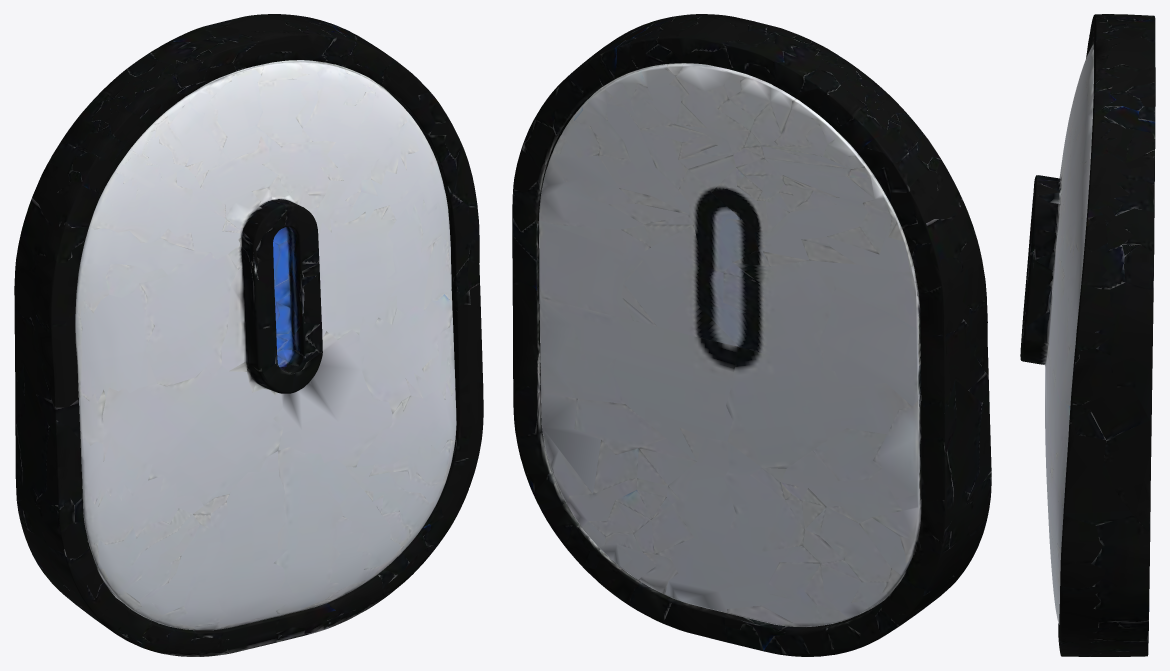
File: mouse.glb
3 renders of one model, left to right at view 1: azimuth 30°, elevation 25°; view 2: azimuth 150°, elevation 25°; view 3: azimuth 270°, elevation 25°, orthographic. The views are drawn at different scales.
Size of the model in its own units: 1.45 by 1.9 by 0.4003.
1 material, 1 textured.
